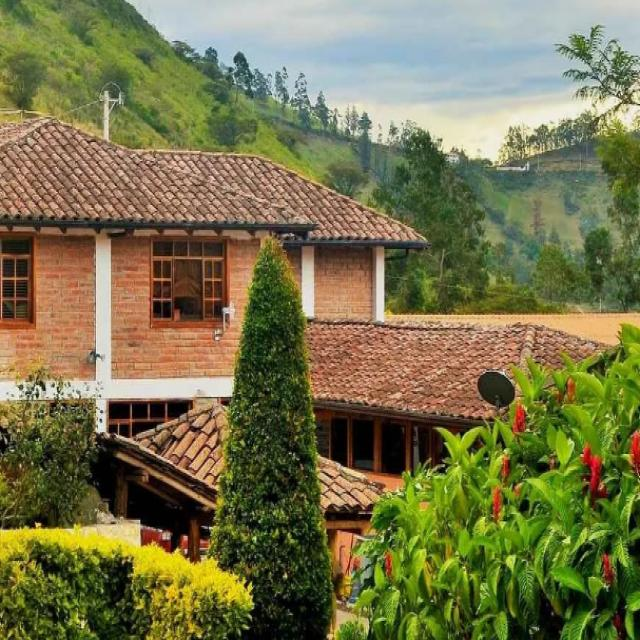Fachada: (0, 119, 600, 549)
